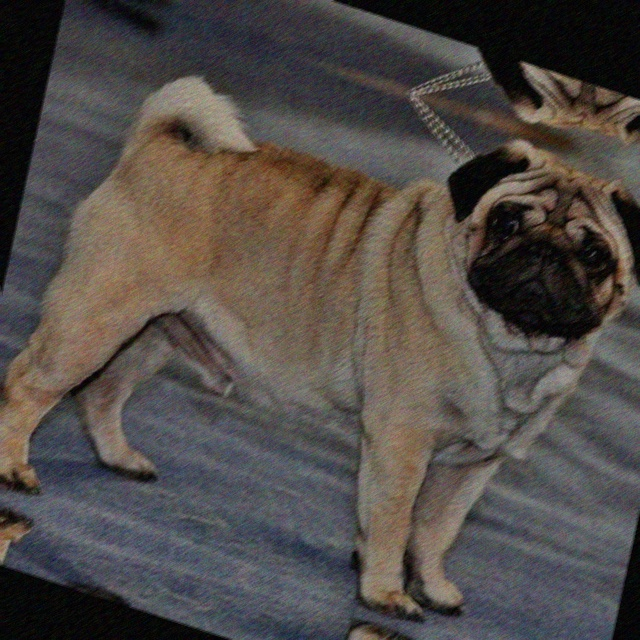dog: (0, 0, 640, 640), (69, 0, 640, 180), (0, 486, 580, 640)
